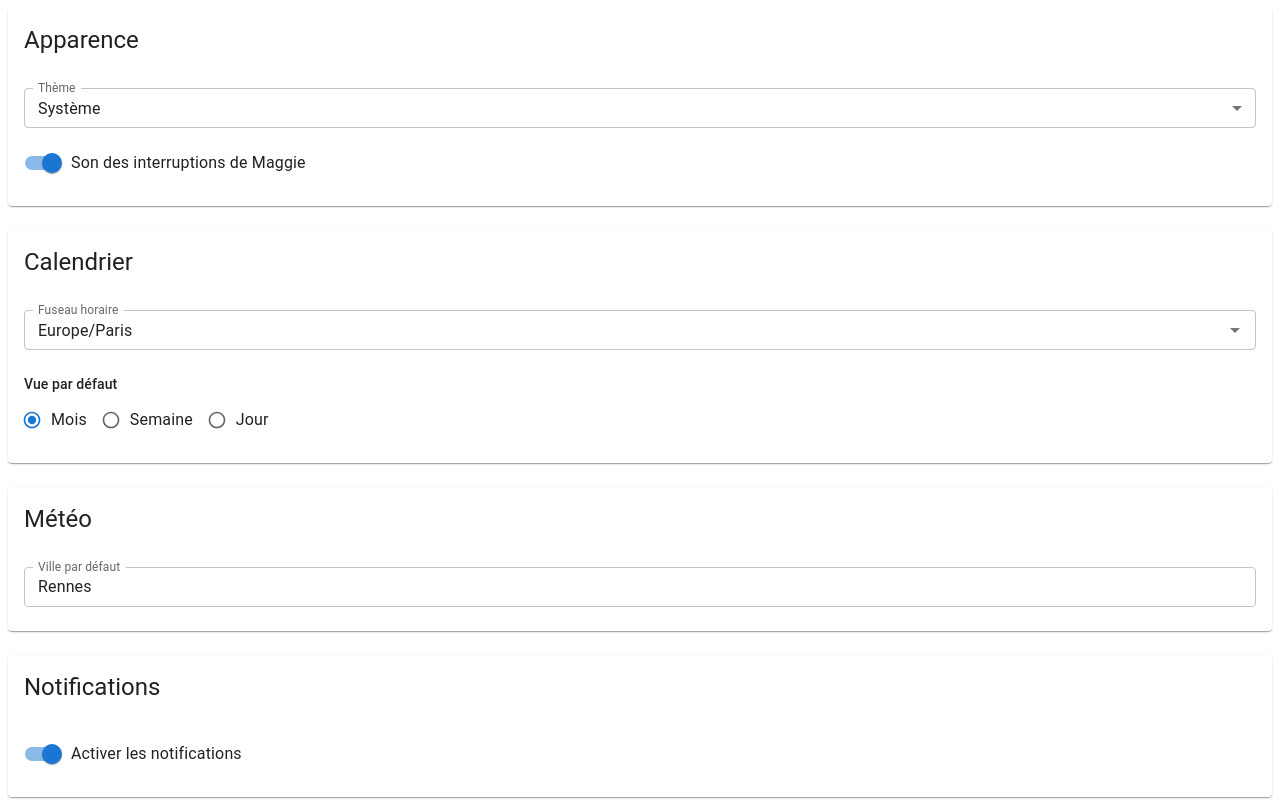
Test: UserPreferenceSettings — default city › a refused save puts the saved city back and says so
Replace the text in the field labelled "Ville par défaut" with "Brest" at (640, 587), box left=24, top=567, right=1256, bottom=607
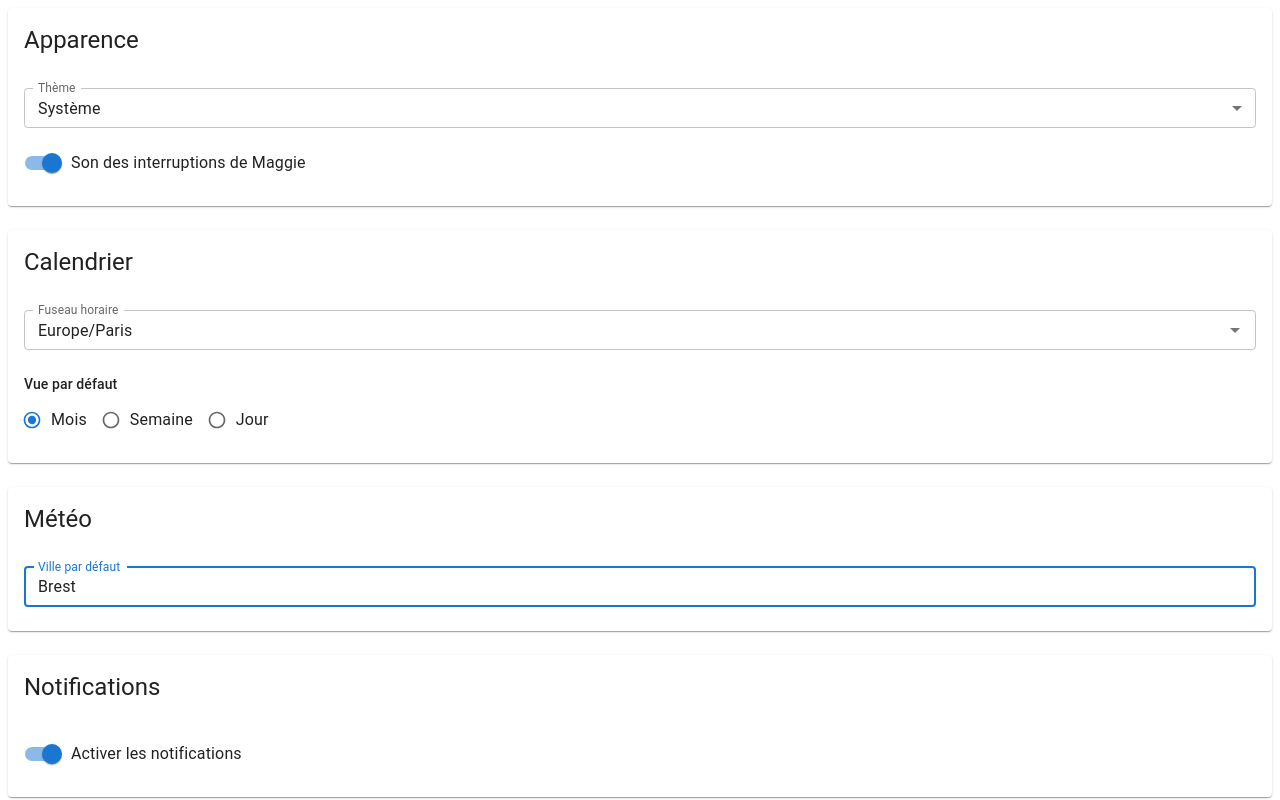
Press Tab
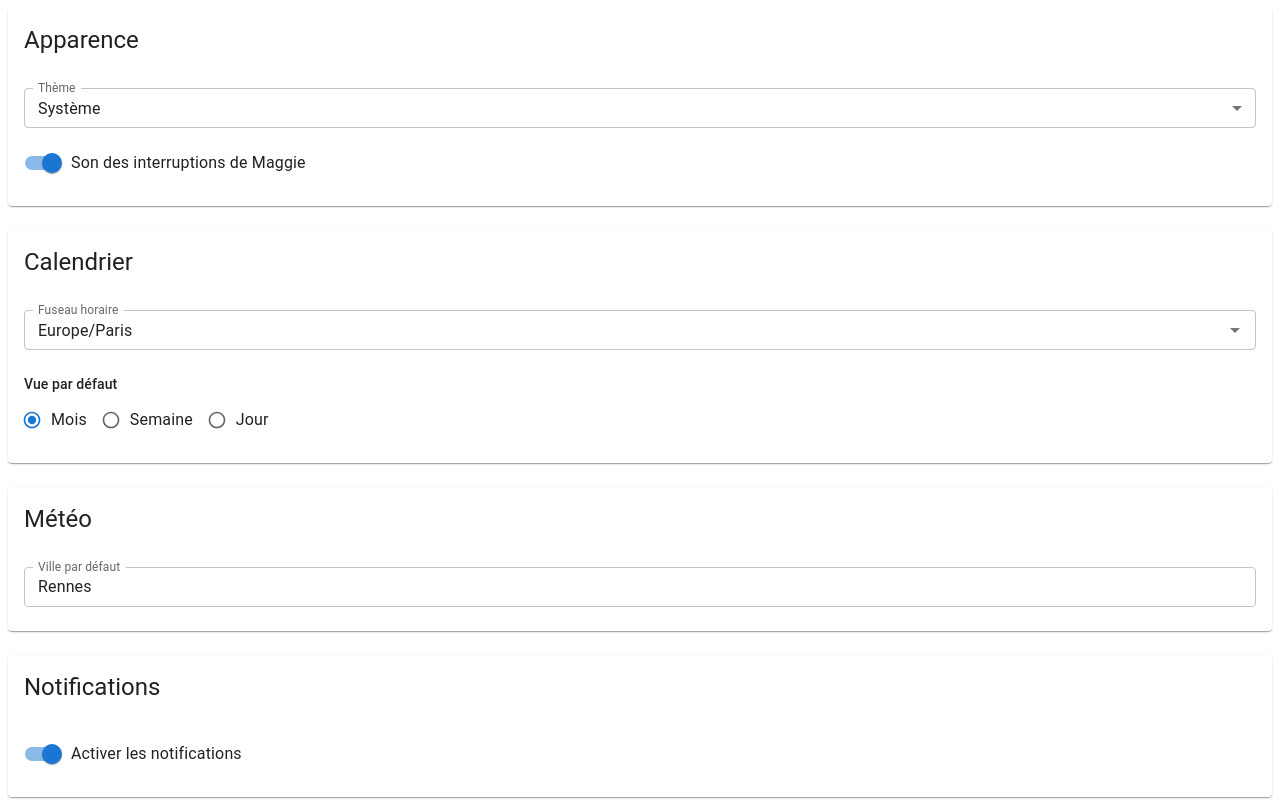
Check: the field labelled "Ville par défaut" holds "Rennes", box left=24, top=567, right=1256, bottom=607
